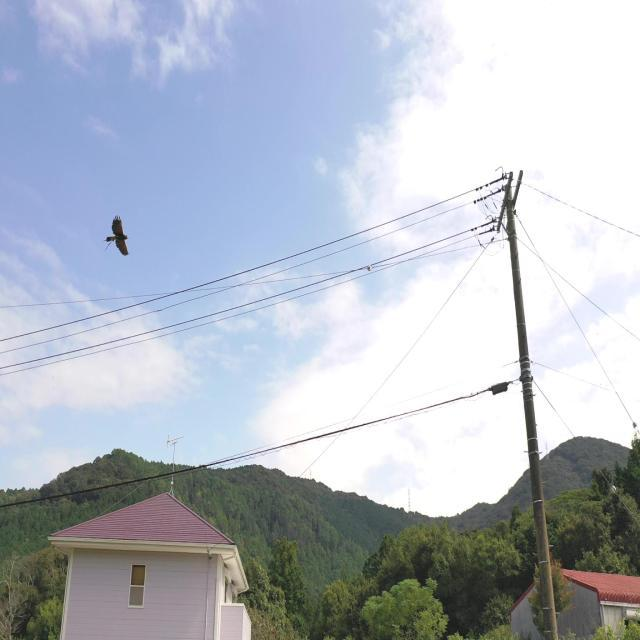Birds: (101, 216, 132, 262)
